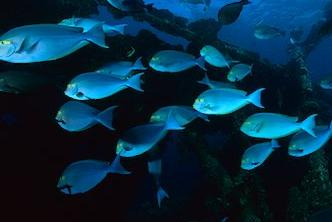Acanthuridae -Surgeonfishes-: (0, 18, 117, 66), (58, 151, 127, 195), (63, 71, 149, 102), (239, 108, 319, 136), (192, 85, 269, 114), (53, 99, 118, 132), (147, 51, 211, 73), (16, 0, 97, 9)
